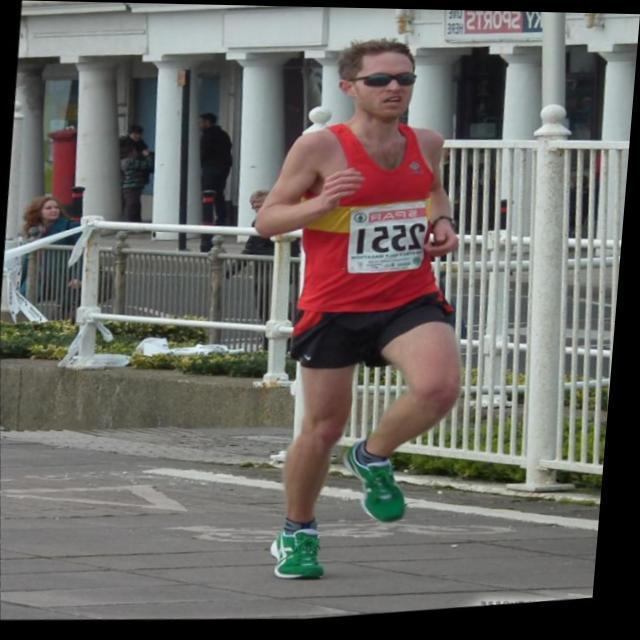dorsal: (322, 190, 448, 296)
